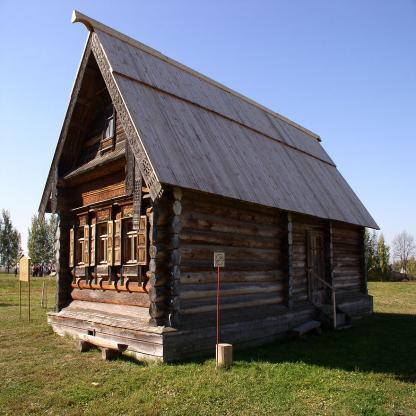Blind: (136, 215, 147, 265), (113, 219, 121, 265), (107, 221, 113, 266), (89, 224, 95, 267), (84, 225, 89, 267), (69, 227, 74, 268)
Building Outline: (37, 9, 381, 366)
Cornice: (112, 191, 142, 207), (88, 198, 112, 212), (68, 205, 88, 216)
Dont: (214, 252, 233, 370), (78, 333, 129, 360), (288, 320, 322, 341)
Facade: (55, 158, 149, 361)
Floor Slab: (42, 152, 149, 195)
Ground Floor: (54, 158, 149, 333)
Roof: (37, 9, 381, 230), (63, 145, 125, 180)
Top Floor: (56, 74, 135, 185)
Window: (125, 219, 137, 264), (98, 223, 107, 265), (103, 104, 113, 140), (77, 227, 84, 265)
Window Hole: (121, 216, 138, 265), (95, 221, 108, 265), (74, 226, 85, 266)
Window Outline: (112, 191, 142, 287), (88, 198, 113, 285), (68, 205, 89, 284), (100, 101, 116, 156)
